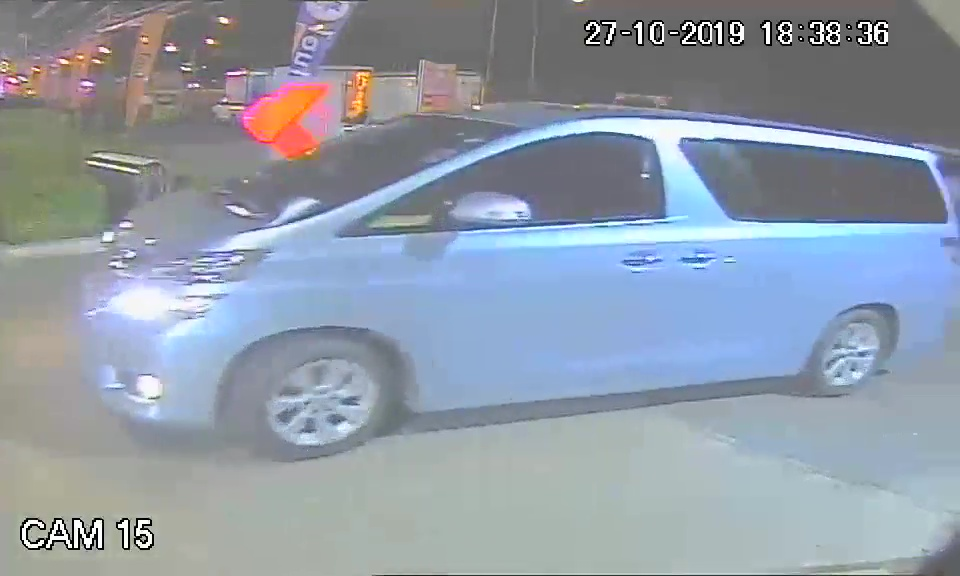van: (73, 95, 953, 458)
